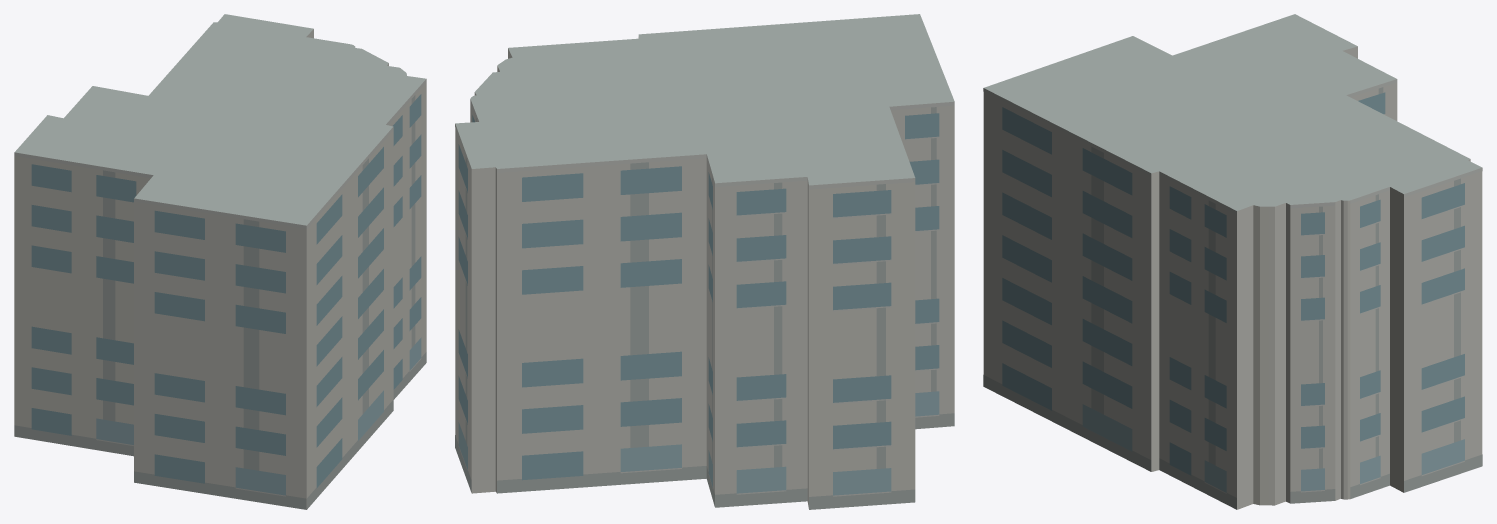
File: survey-upis-32996432.glb
The picture shows the model from 3 angles, left to right: view 1: azimuth 30°, elevation 25°; view 2: azimuth 150°, elevation 25°; view 3: azimuth 270°, elevation 25°; orthographic projection. The views are drawn at different scales.
Visible parts, largest first — view 1: survey-upis-32996432.tmp; view 2: survey-upis-32996432.tmp; view 3: survey-upis-32996432.tmp.
Boxes of the visible parts, x1,y1,x2,y2 form: survey-upis-32996432.tmp: (14,14,426,509); survey-upis-32996432.tmp: (455,14,954,509); survey-upis-32996432.tmp: (983,14,1482,509).
Size of the model in its own units: 28.46 by 20.1 by 30.43.
